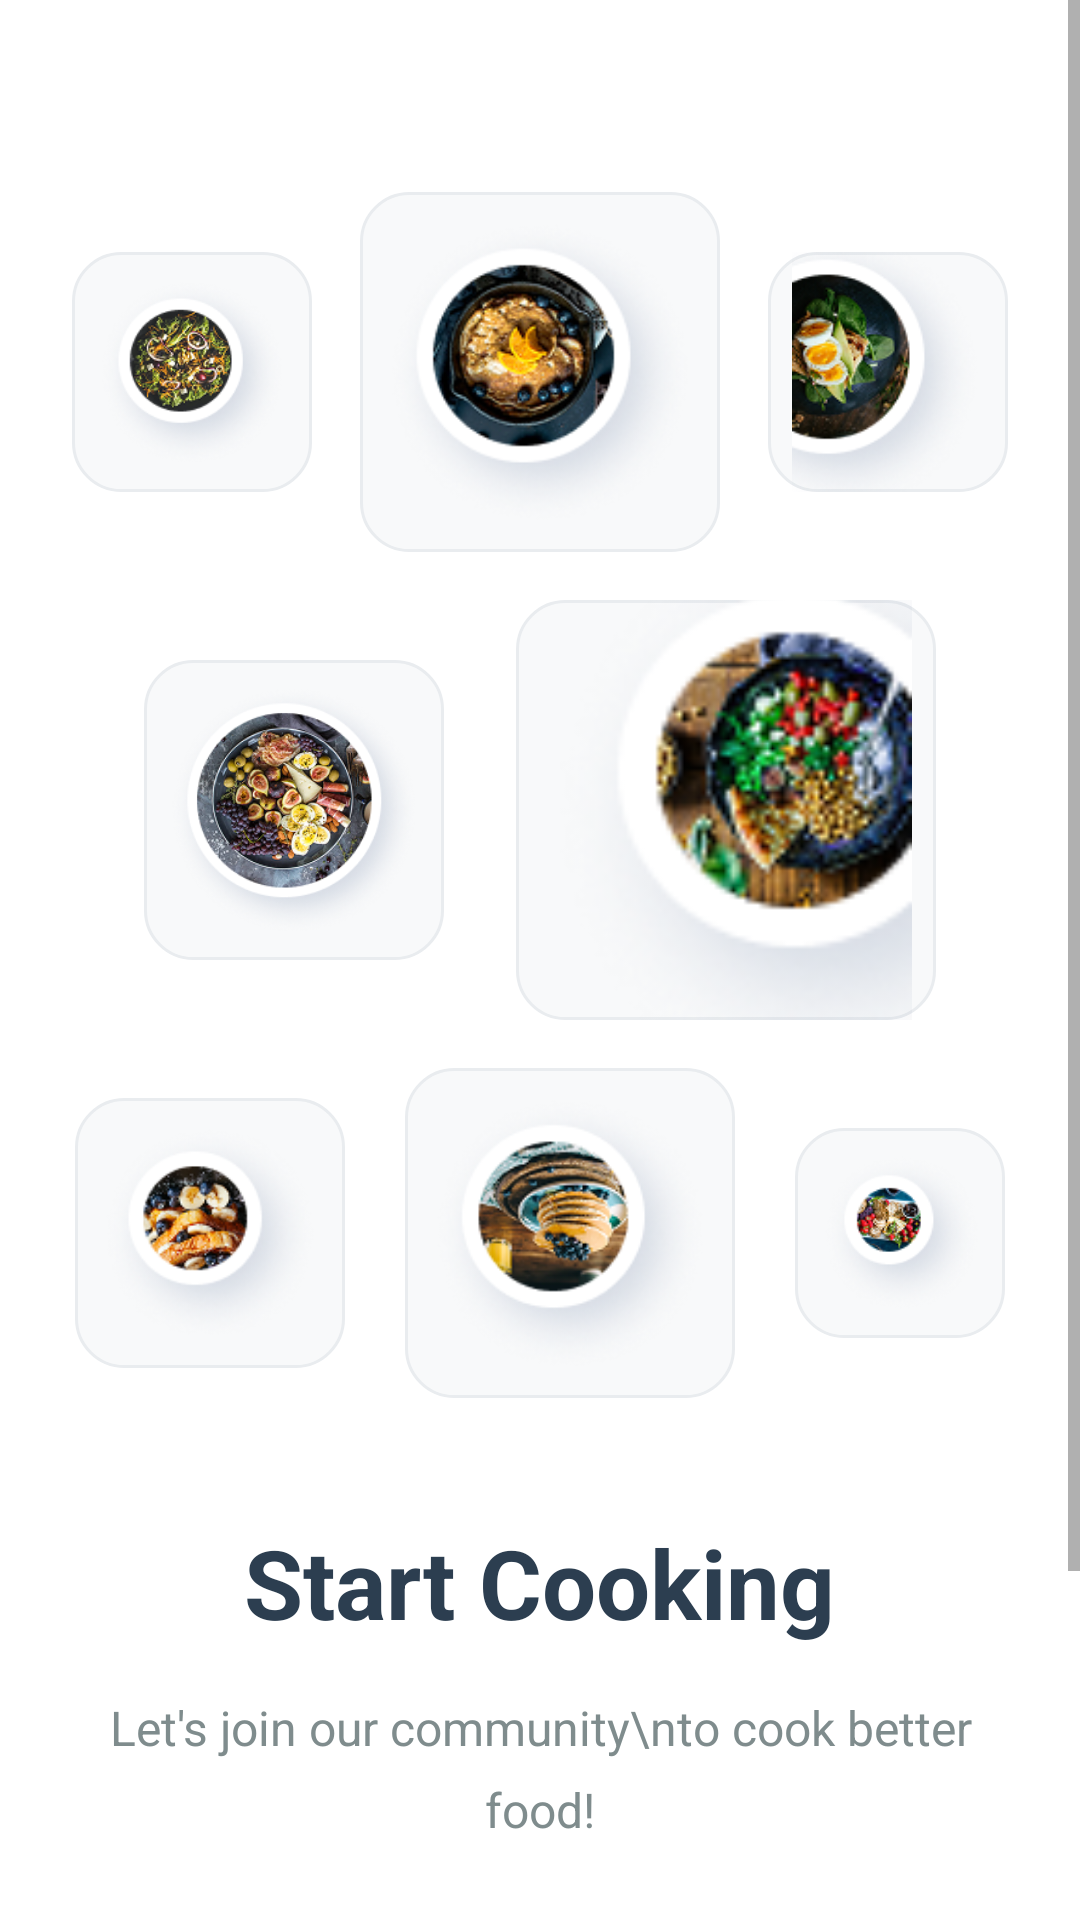

Locate icon controls on the screen. Image size 1080 × 1920, boxes as [x1, y1, x2, y2].
Food 1: [129, 309, 255, 435]
Food 2: [432, 264, 648, 480]
Food 4: [197, 713, 392, 908]
Food 6: [143, 1166, 276, 1299]
Food 7: [478, 1141, 662, 1325]
Food 8: [856, 1187, 945, 1277]
